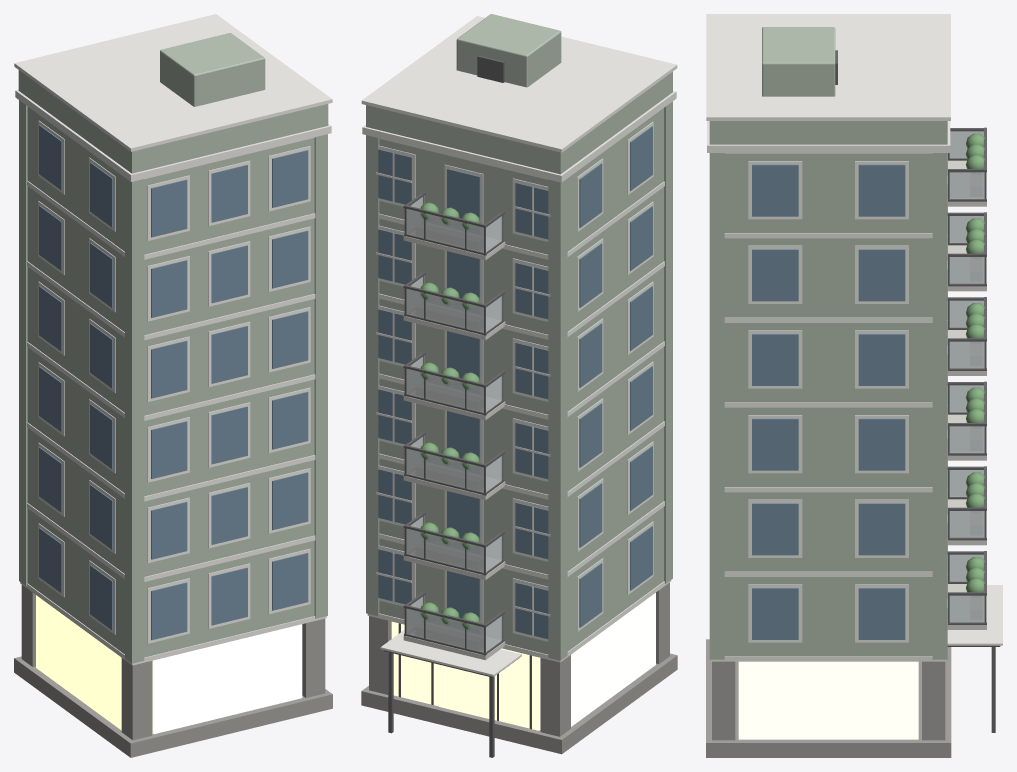
File: menara-3-blender-v1.glb
3 views of the same model, side by side, from view 1: azimuth 30°, elevation 25°; view 2: azimuth 150°, elevation 25°; view 3: azimuth 270°, elevation 25° (orthographic). The views are drawn at different scales.
Visible parts, largest first — view 1: sage_body, window_glass, roof_coping, lobby_glass, window_frames, roof_sage, white_bands, stone_base; view 2: sage_body, window_glass, roof_coping, glass_railings, window_frames, lobby_glass, roof_sage, stone_base, white_bands, dark_frames, bushes, balcony_slabs (+3 smaller); view 3: sage_body, window_glass, roof_coping, lobby_glass, roof_sage, window_frames, white_bands, stone_base, glass_railings, dark_frames, bushes, balcony_slabs (+2 smaller).
Part boxes in pixels (x1,y1,x2,y2): sage_body: (19,100,327,663); window_glass: (39,125,308,640); roof_coping: (14,14,332,151); lobby_glass: (36,595,302,734); window_frames: (38,120,310,643); roof_sage: (18,33,328,173); white_bands: (15,89,331,665); stone_base: (14,585,332,757); sage_body: (366,101,672,660); window_glass: (378,126,652,638); roof_coping: (361,16,677,152); glass_railings: (406,195,502,652); window_frames: (376,121,653,641); lobby_glass: (391,593,655,730); roof_sage: (366,14,672,174); stone_base: (361,582,677,754); white_bands: (362,91,676,662); dark_frames: (403,191,504,655); bushes: (420,202,479,629); balcony_slabs: (403,236,505,660); sage_body: (709,153,947,659); window_glass: (752,164,905,639); roof_coping: (706,14,950,120); lobby_glass: (738,661,918,739); roof_sage: (709,27,947,144); window_frames: (748,153,947,642); white_bands: (707,121,950,661); stone_base: (706,639,951,757); glass_railings: (947,131,984,622); dark_frames: (947,127,986,624); bushes: (965,133,984,592); balcony_slabs: (947,160,986,629).
Size of the model in its own units: 7.35 by 22.29 by 8.9.
